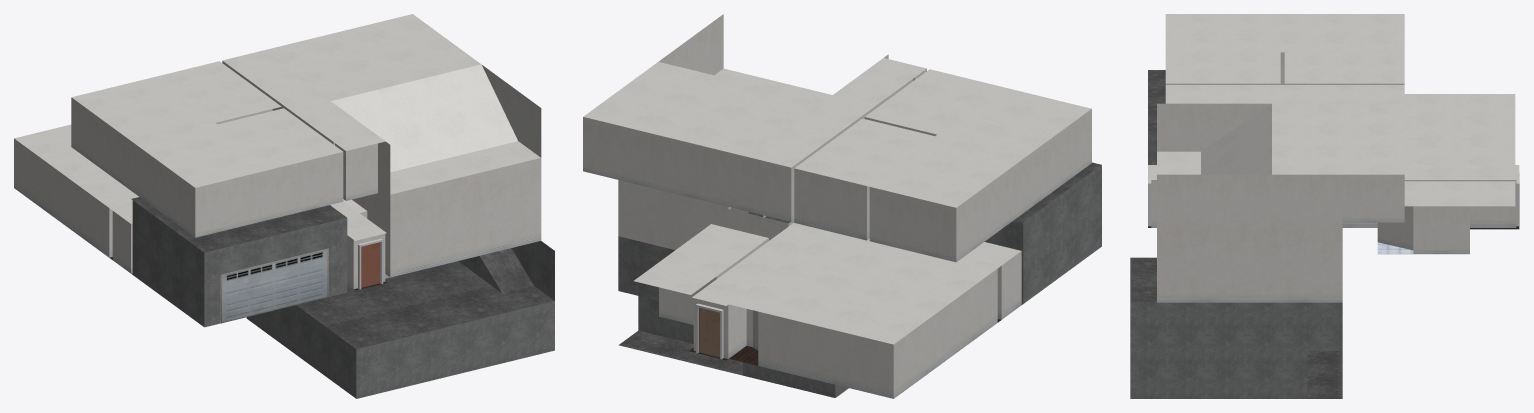
The model's file is h_house_default.fbx.
3 renders of one model, left to right at view 1: azimuth 30°, elevation 25°; view 2: azimuth 150°, elevation 25°; view 3: azimuth 270°, elevation 25°, orthographic. The views are drawn at different scales.
Visible parts, largest first — view 1: roof_livingroom, walls_basement, walls_livingroom, roof_bedroom, walls_bedroom, roof_basement, walls_garage, garage_door, walls_kitchen, roof_secondhallway, roof_secondbathroom, roof_kitchen (+5 smaller); view 2: roof_bedroom, roof_kitchen, walls_kitchen, roof_livingroom, walls_bedroom, walls_secondhallway, walls_livingroom, walls_garage, roof_secondhallway, walls_basement, roof_secondbathroom, roof_firstbathroom (+8 smaller); view 3: walls_livingroom, walls_basement, roof_livingroom, roof_bedroom, roof_kitchen, walls_secondhallway, roof_secondhallway, roof_secondbathroom, walls_firstbathroom, roof_firstbathroom, roof_firsthallway, walls_firsthallway (+6 smaller).
Boxes of the visible parts, bbox=[...] form: roof_livingroom: bbox=[262, 14, 540, 194]; walls_basement: bbox=[246, 241, 554, 398]; walls_livingroom: bbox=[343, 65, 541, 277]; roof_bedroom: bbox=[72, 77, 342, 187]; walls_bedroom: bbox=[71, 97, 343, 237]; roof_basement: bbox=[296, 248, 554, 349]; walls_garage: bbox=[132, 200, 347, 327]; garage_door: bbox=[221, 248, 328, 323]; walls_kitchen: bbox=[14, 138, 112, 257]; roof_secondhallway: bbox=[222, 51, 385, 150]; roof_secondbathroom: bbox=[153, 61, 281, 122]; roof_kitchen: bbox=[14, 124, 138, 210]; roof_bedroom: bbox=[865, 69, 1091, 207]; roof_kitchen: bbox=[729, 231, 1000, 344]; walls_kitchen: bbox=[746, 269, 997, 398]; roof_livingroom: bbox=[583, 62, 832, 156]; walls_bedroom: bbox=[864, 109, 1091, 262]; walls_secondhallway: bbox=[583, 54, 926, 221]; walls_livingroom: bbox=[618, 14, 766, 249]; walls_garage: bbox=[984, 165, 1101, 303]; roof_secondhallway: bbox=[748, 58, 926, 167]; walls_basement: bbox=[618, 236, 848, 397]; roof_secondbathroom: bbox=[794, 118, 934, 185]; roof_firstbathroom: bbox=[634, 224, 768, 294]; walls_livingroom: bbox=[1157, 174, 1342, 302]; walls_basement: bbox=[1130, 302, 1342, 398]; roof_livingroom: bbox=[1157, 103, 1404, 174]; roof_bedroom: bbox=[1165, 14, 1404, 83]; roof_kitchen: bbox=[1404, 94, 1515, 164]; walls_secondhallway: bbox=[1157, 103, 1404, 222]; roof_secondhallway: bbox=[1165, 85, 1404, 103]; roof_secondbathroom: bbox=[1284, 52, 1404, 83]; walls_firstbathroom: bbox=[1377, 206, 1469, 253]; roof_firstbathroom: bbox=[1404, 181, 1515, 206]; roof_firsthallway: bbox=[1148, 165, 1519, 179]; walls_firsthallway: bbox=[1151, 180, 1516, 227].
Bounding box in the file's own units: 3870 × 2520 × 3963.
